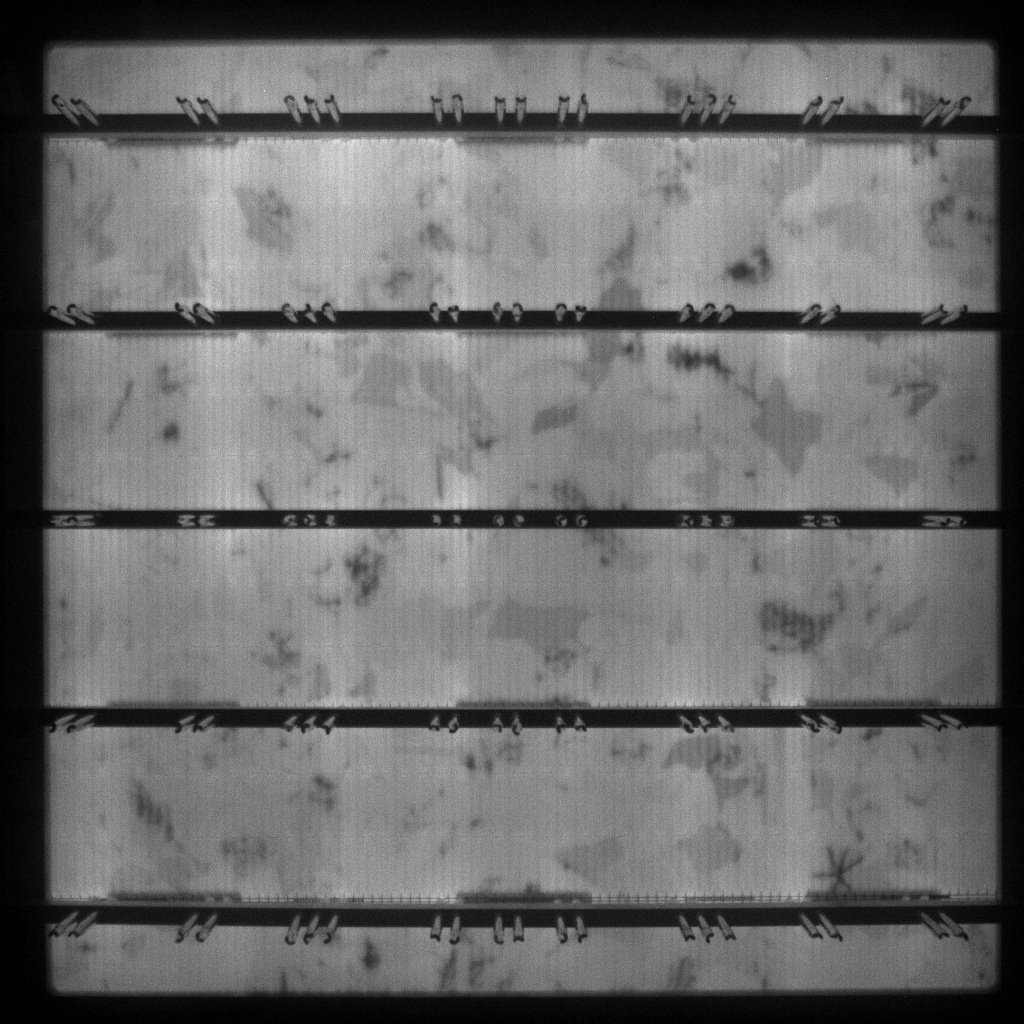crack: (810, 842, 869, 891)
